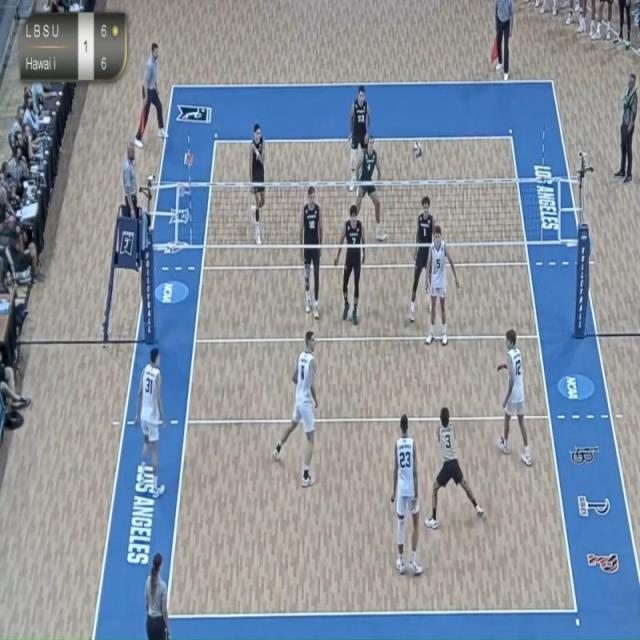volleyball: (411, 136, 425, 162)
